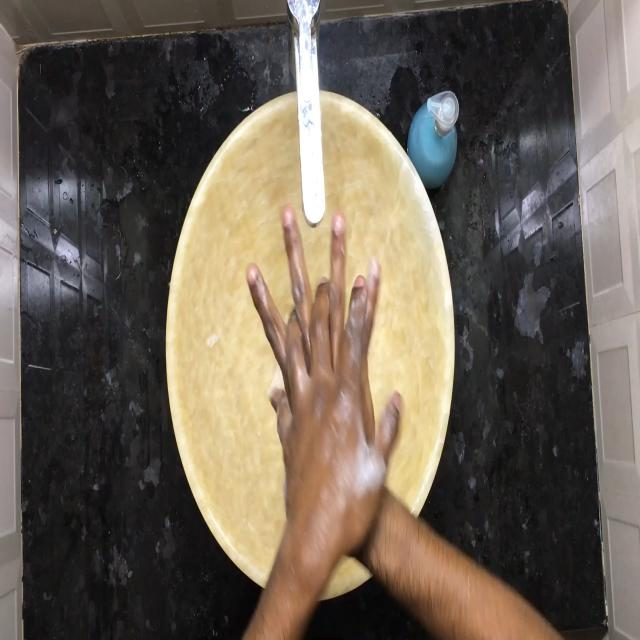step_2: (241, 203, 408, 492)
